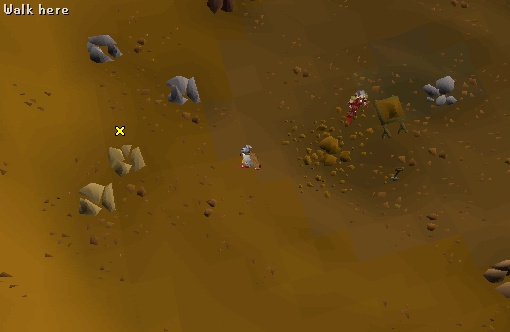clay: (101, 137, 158, 180), (69, 176, 126, 219)
tin: (159, 70, 213, 112), (77, 28, 131, 70)
